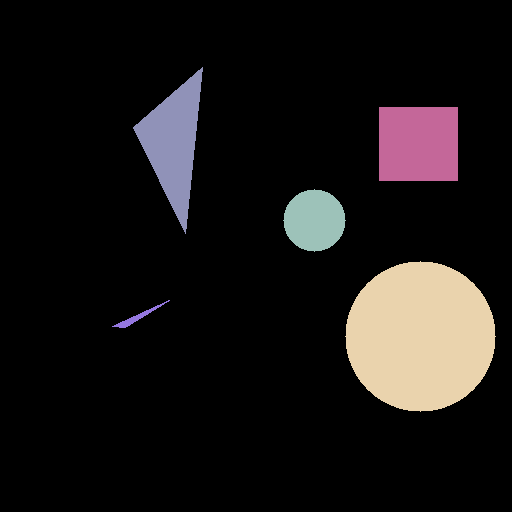circle: (345, 261, 495, 411), (283, 189, 345, 251)
square: (379, 107, 457, 180)
triangle: (133, 67, 202, 233), (112, 300, 169, 327)
